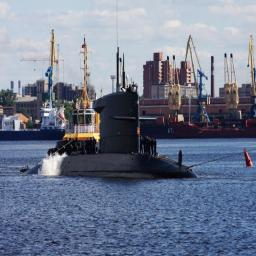submarine: (18, 91, 199, 178)
